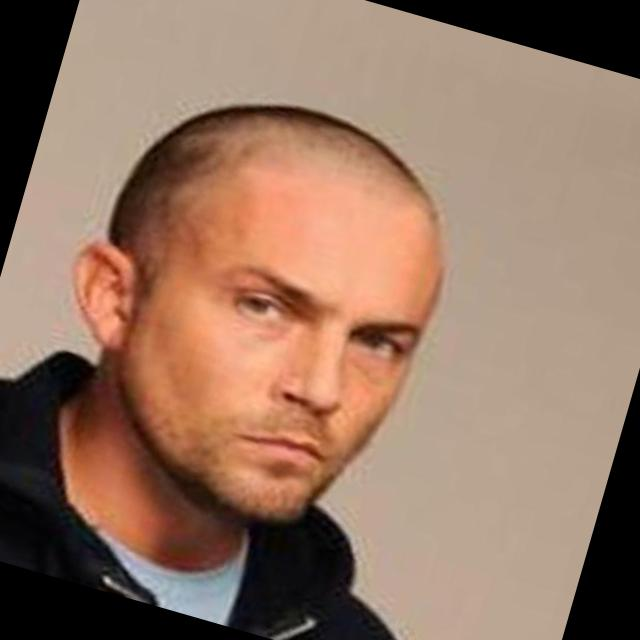bareface: (30, 66, 488, 546)
